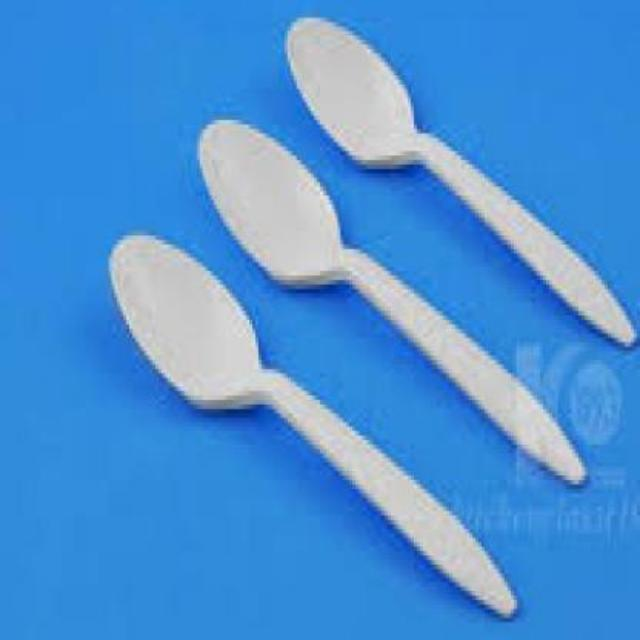plastic_cultery: (106, 18, 638, 622)
